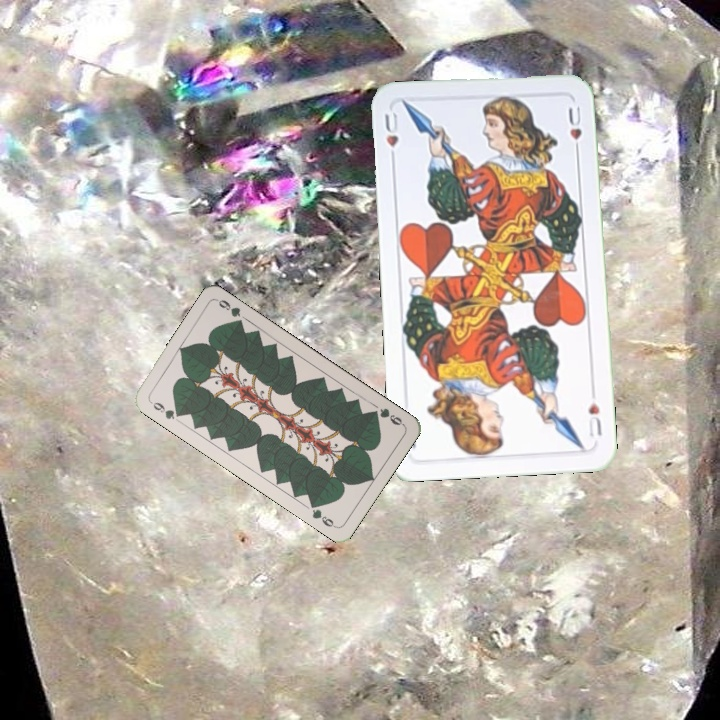G9: (146, 397, 185, 422), (367, 404, 407, 428)
HU: (381, 108, 401, 166), (584, 398, 604, 440)
